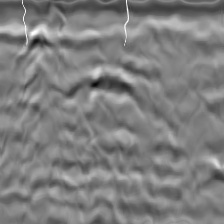Utility: (71, 65, 146, 103), (24, 18, 61, 62)
